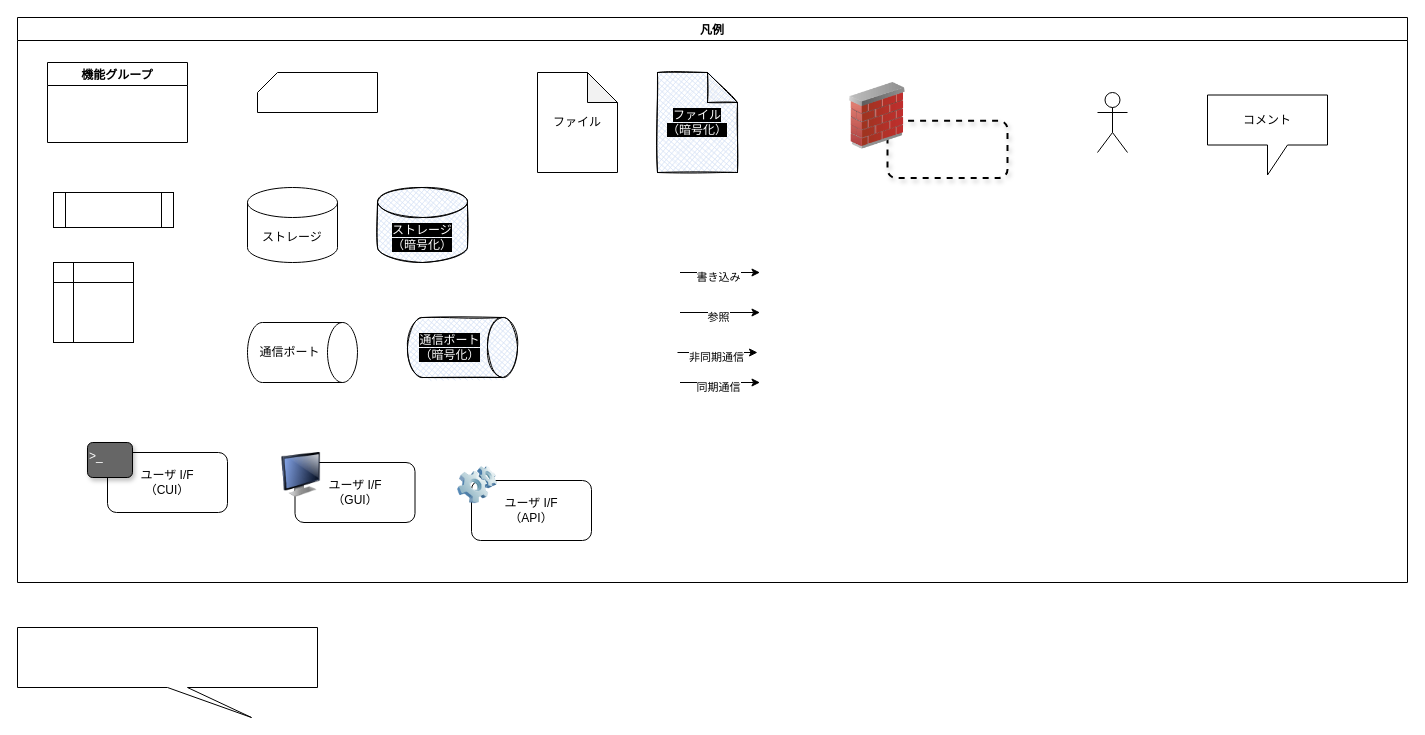
This 1425x735 diagram has some shape labels left out. The shapes that lost their labels are listed below. From the top down, each one's centre as x and y in pixels, then its label:
At (x=317, y=92): "設定パラメタ".
At (x=1112, y=122): "Actor".
At (x=948, y=150): "アクセス制御".
At (x=113, y=210): "処理".
At (x=93, y=302): "メモリ".
At (x=167, y=672): "・物理境界ではなく論理境界で分けること ・概要／詳細で図を分ける ・主機能と補足機能がわかるように".
